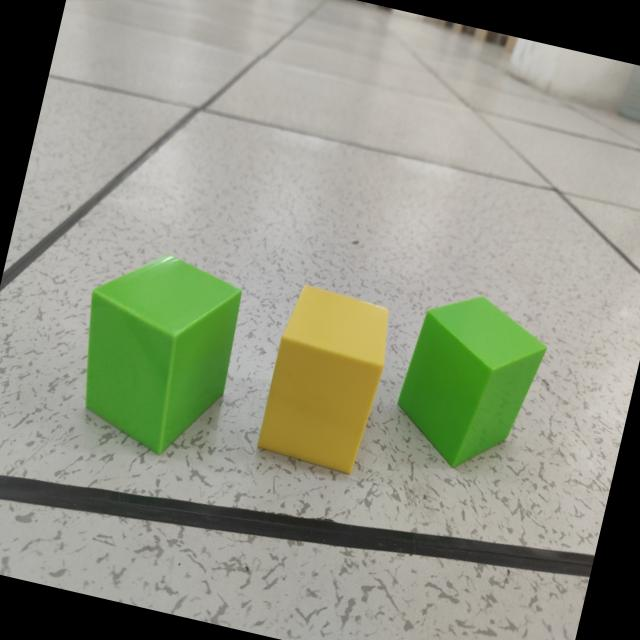green: (84, 256, 241, 455), (396, 297, 546, 468)
yellow: (255, 287, 388, 475)
